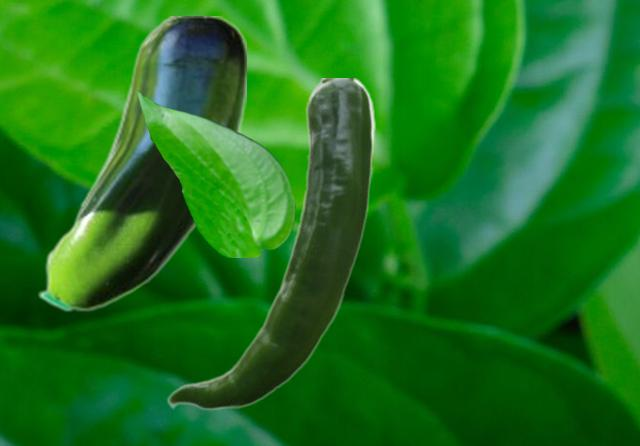green_chili: (166, 78, 375, 410), (36, 16, 245, 312)
